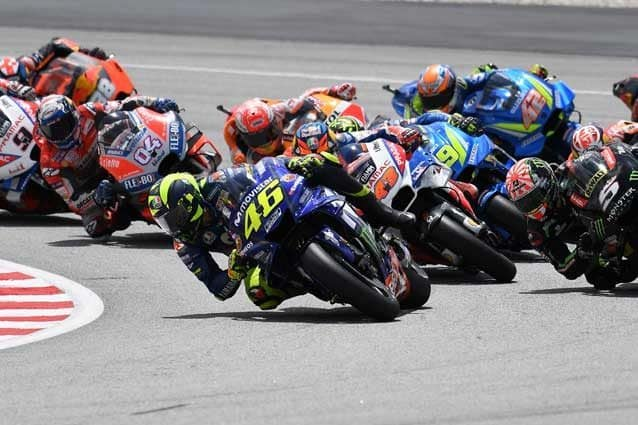helmet: (501, 151, 558, 222), (224, 96, 285, 155), (32, 94, 85, 149), (414, 63, 456, 103)
